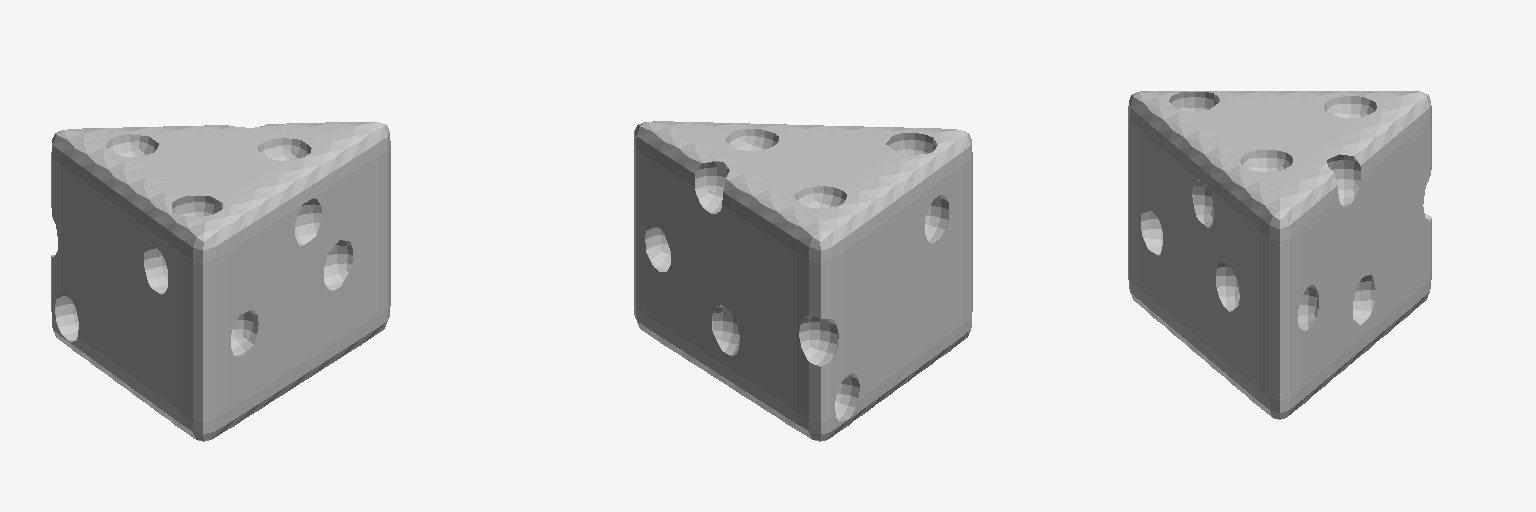
Rendered from Cheese.obj.
3 views of the same model, side by side, from view 1: azimuth 30°, elevation 25°; view 2: azimuth 150°, elevation 25°; view 3: azimuth 270°, elevation 25° (orthographic).
Parts seen in each view (by area): view 1: Cube; view 2: Cube; view 3: Cube.
Boxes of the visible parts, x1=… form: Cube: x1=51, y1=122, x2=390, y2=441; Cube: x1=634, y1=121, x2=972, y2=441; Cube: x1=1128, y1=91, x2=1431, y2=419.
Size of the model in its own units: 2.16 by 1.63 by 2.11.